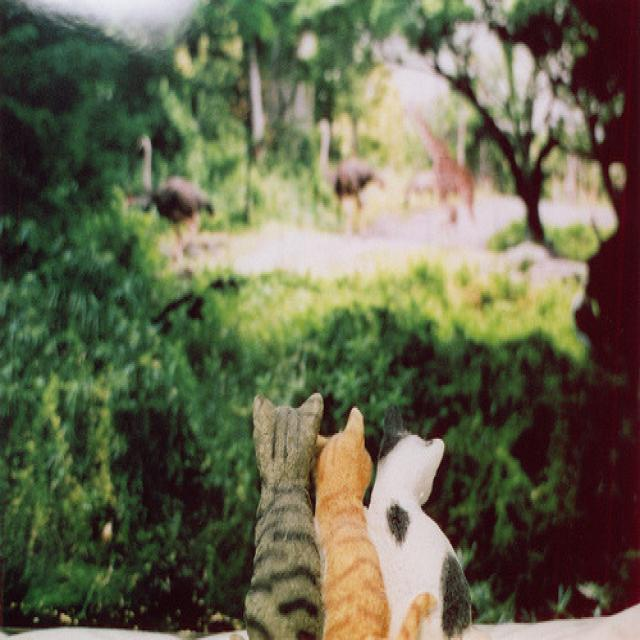cat: (234, 373, 477, 640)
